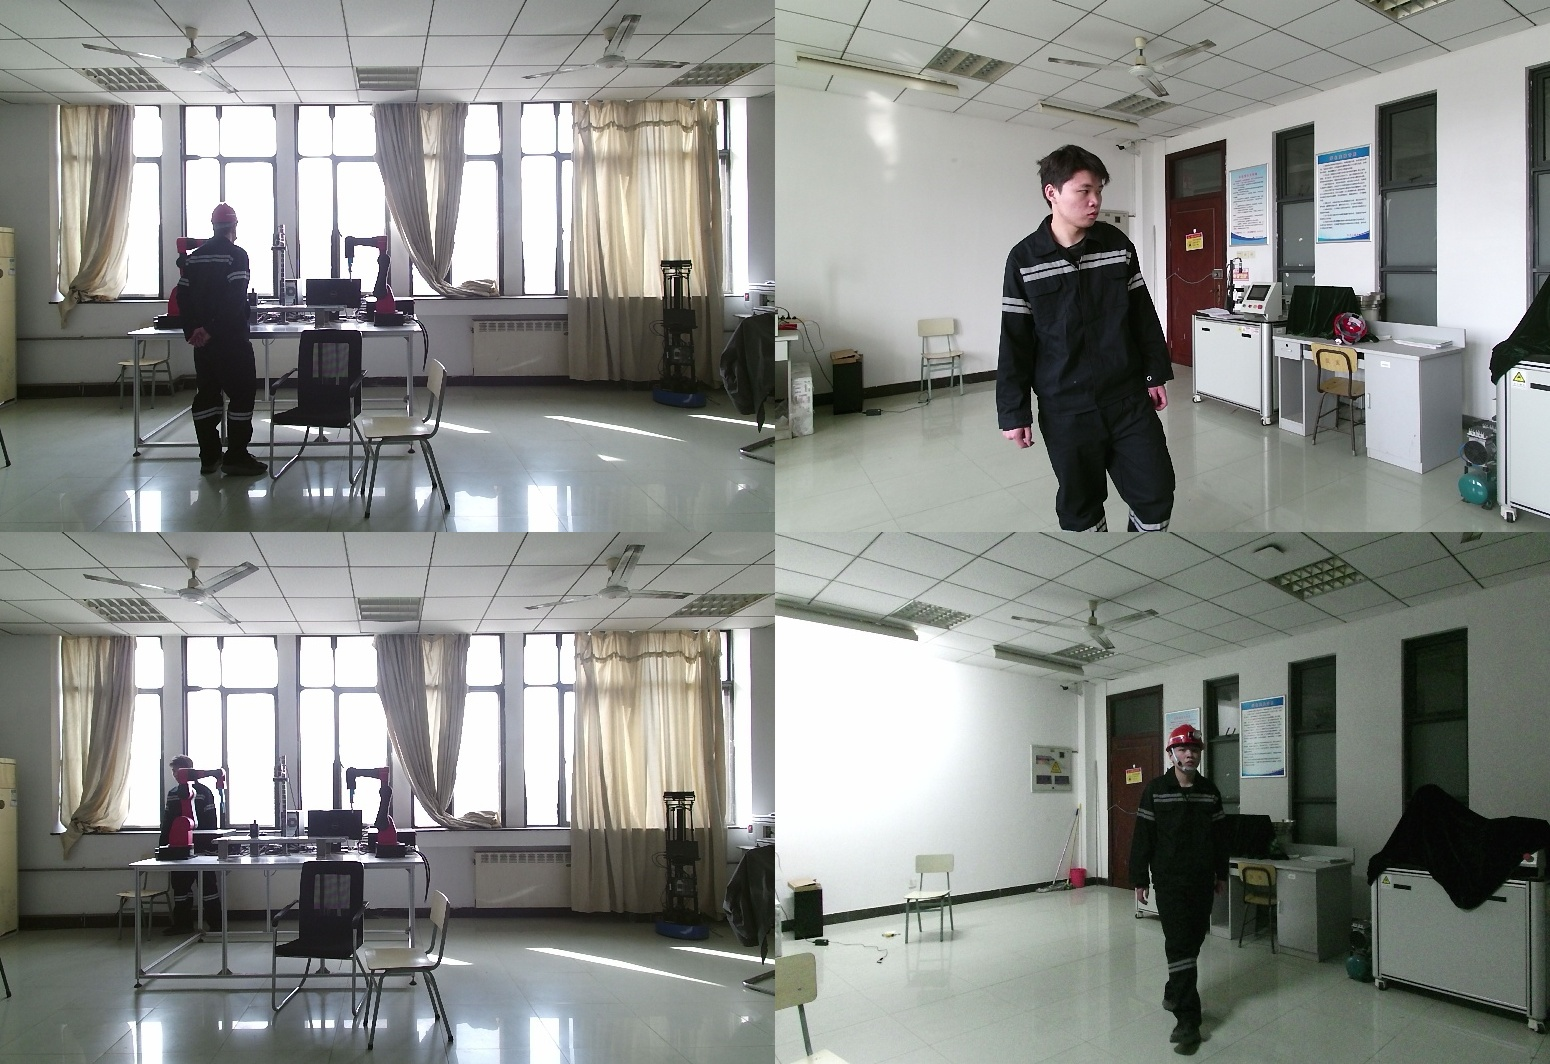person: (997, 143, 1189, 532), (1126, 726, 1238, 1021), (174, 204, 272, 479), (157, 755, 226, 943)
